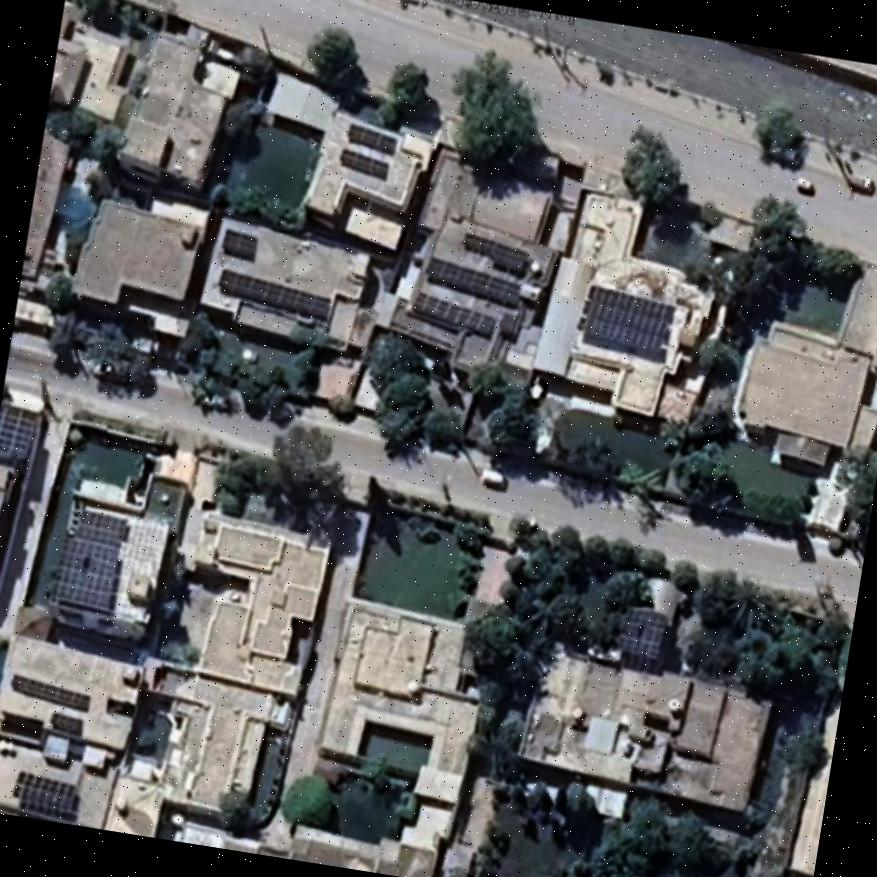Solarpanel: (46, 504, 126, 610), (578, 285, 671, 354), (215, 267, 332, 321), (420, 258, 519, 305), (408, 288, 493, 336), (614, 600, 669, 656), (12, 675, 91, 712), (13, 768, 75, 811), (461, 234, 525, 271), (0, 403, 40, 460), (340, 147, 389, 179), (349, 123, 397, 154), (223, 229, 256, 256), (51, 712, 82, 732)
